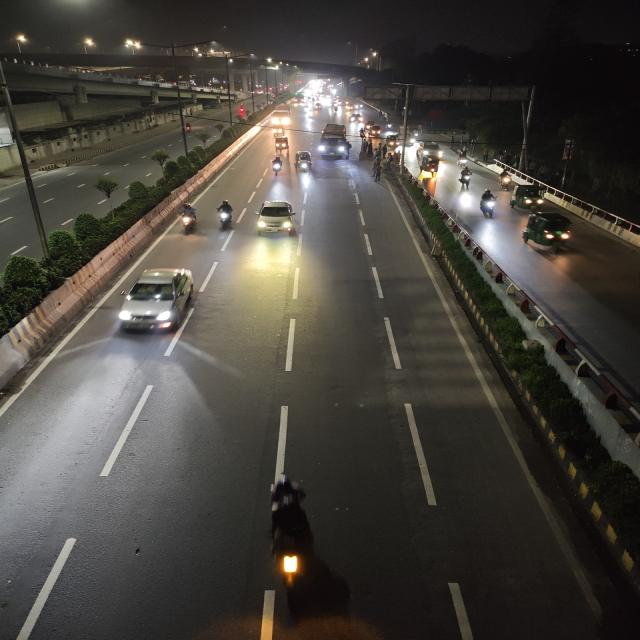bus: (316, 123, 348, 160)
car: (105, 254, 206, 354), (249, 192, 302, 240), (414, 140, 443, 158), (346, 113, 366, 126)
cng: (520, 211, 576, 256), (511, 180, 545, 216), (290, 150, 318, 177), (418, 155, 444, 179), (272, 136, 291, 154), (386, 135, 399, 149), (369, 125, 383, 137), (270, 125, 285, 136), (364, 120, 374, 130)
motorcycle: (173, 202, 203, 234), (213, 197, 237, 233), (476, 190, 500, 220), (495, 169, 515, 193), (268, 154, 287, 178), (457, 166, 473, 188), (183, 120, 196, 134)
pedestrian: (374, 163, 384, 179), (360, 138, 368, 154), (378, 142, 383, 160), (372, 160, 378, 174), (382, 145, 388, 158), (373, 149, 378, 158)
truck: (267, 105, 295, 127)
